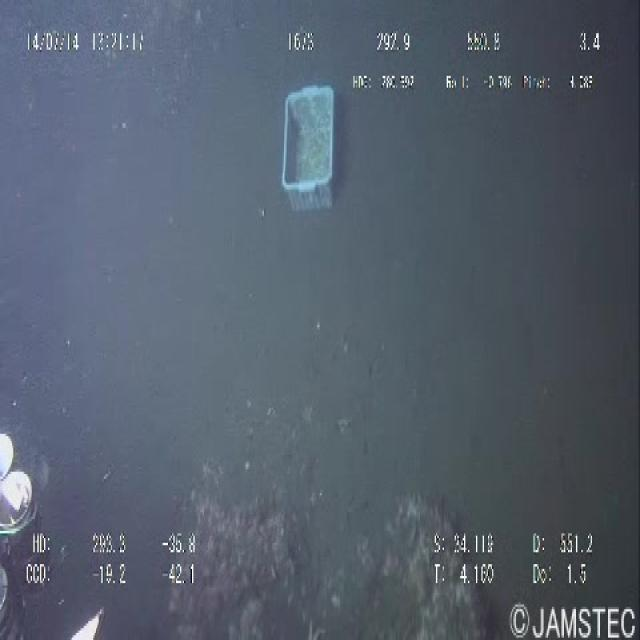plastic: (260, 59, 355, 232)
